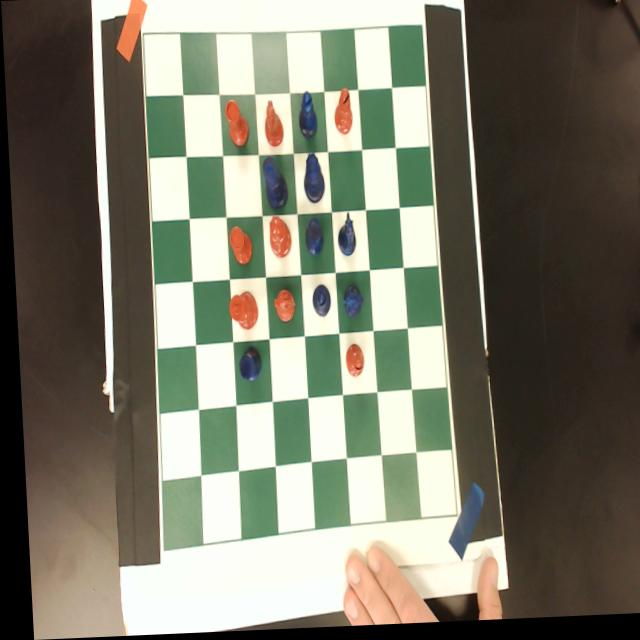B: (295, 90, 317, 142), (306, 285, 328, 321)
K: (260, 155, 287, 216)
N: (335, 283, 363, 322), (332, 211, 354, 259)
Q: (299, 153, 323, 206)
R: (232, 345, 258, 386), (299, 218, 323, 261)
b: (330, 87, 352, 140), (340, 345, 360, 382)
k: (223, 291, 255, 334)
n: (259, 99, 283, 150), (268, 286, 293, 327)
q: (264, 215, 290, 262)
r: (222, 100, 248, 150), (224, 224, 250, 267)
